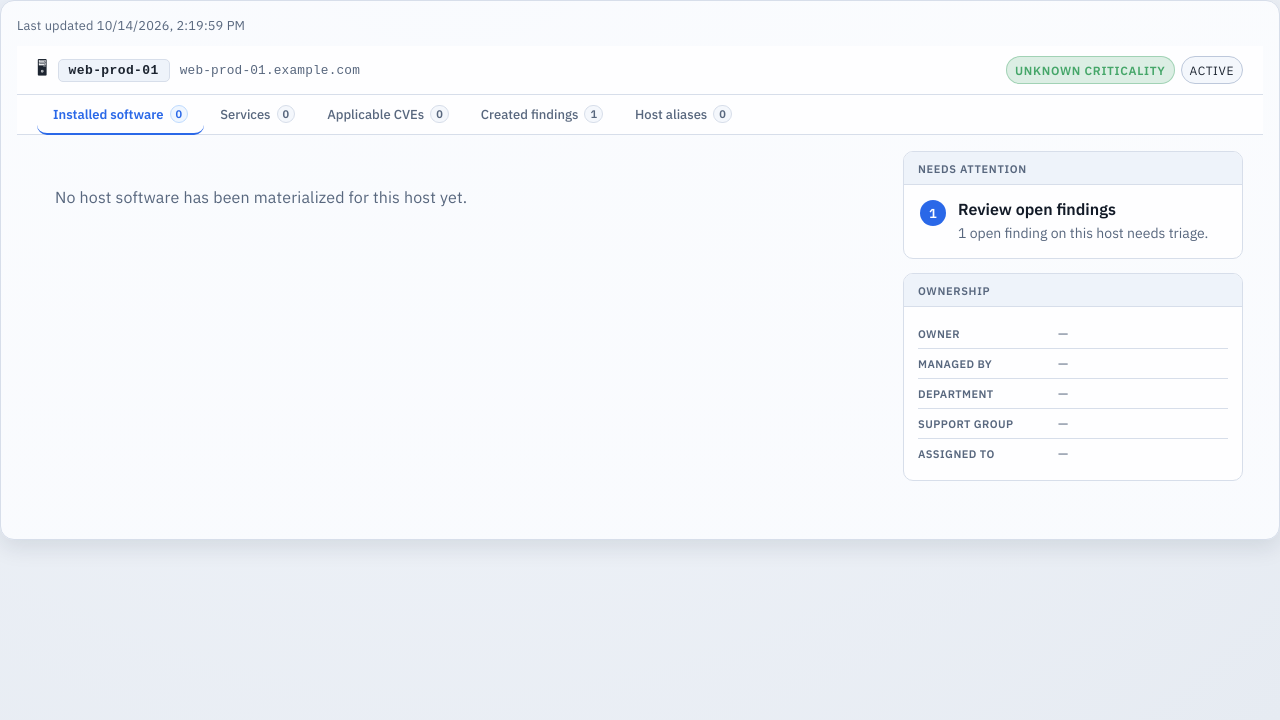
Test: HostAssetDetailPage › renders finding id, package, owner, and other detail columns on the Created findings tab
Expected: the text "web-prod-01" is shown, [58,59,170,82]
What coordinates should you click on to do the following:
click the button "Created findings 1"
I would click on:
 (542, 115)
Its box is [465,95,619,135].
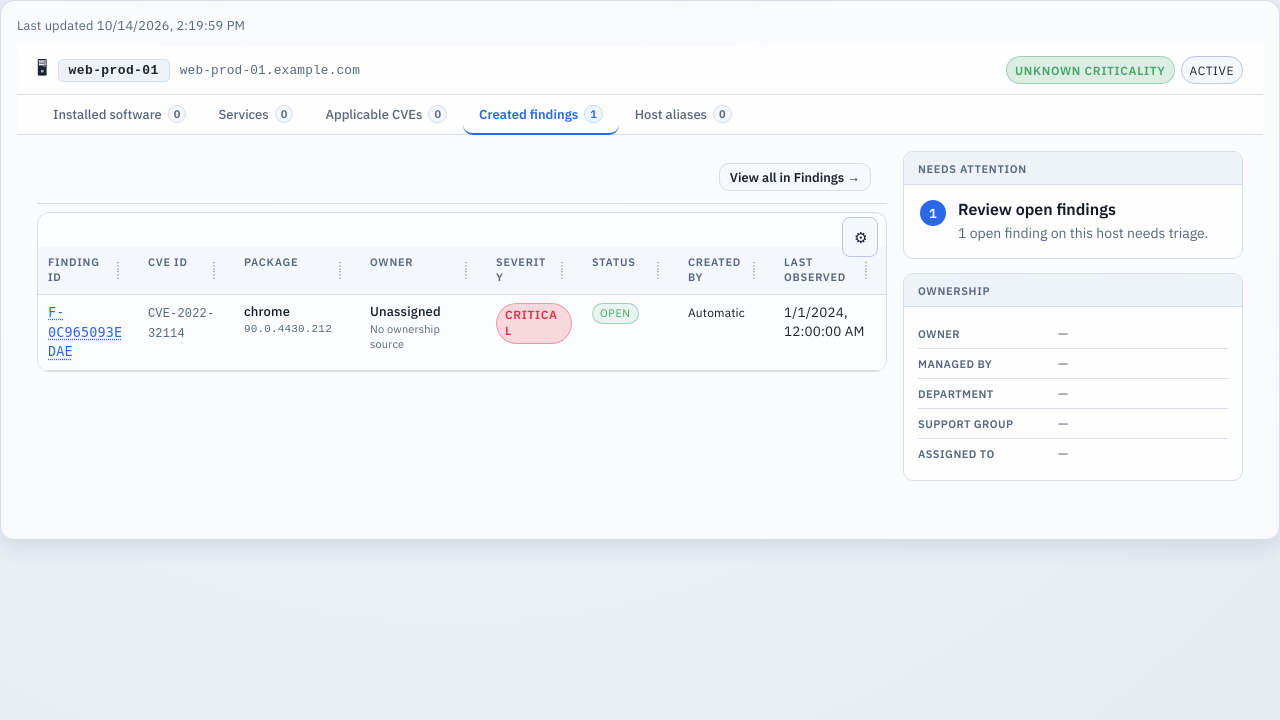
Now the link "F-0C965093EDAE" is shown, box [48,305,122,359]
Now the text "CVE-2022-32114" is shown, box [148,307,214,340]
Now the text "chrome" is shown, box [244,303,290,320]
